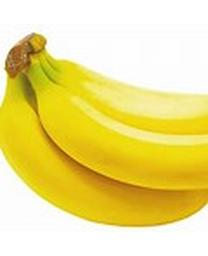banana: (0, 33, 207, 226)
